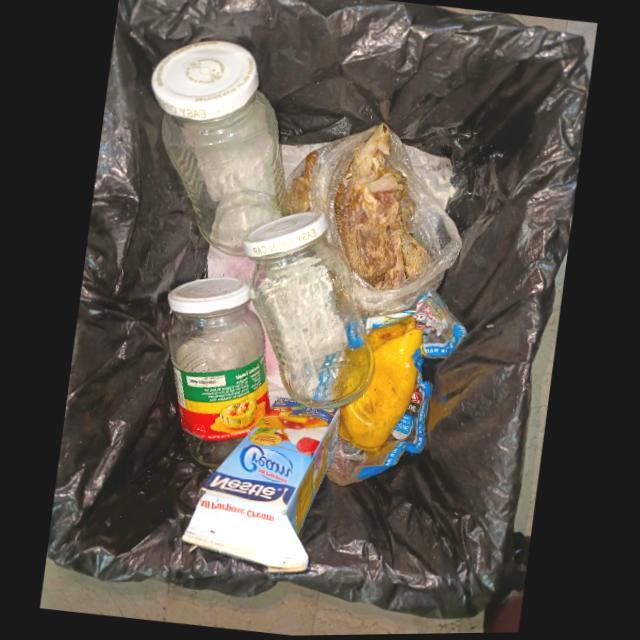biowaste: (332, 125, 428, 287), (338, 317, 423, 451)
glass: (150, 39, 284, 256), (241, 210, 375, 411), (166, 277, 270, 469)
paper: (181, 398, 340, 572)
